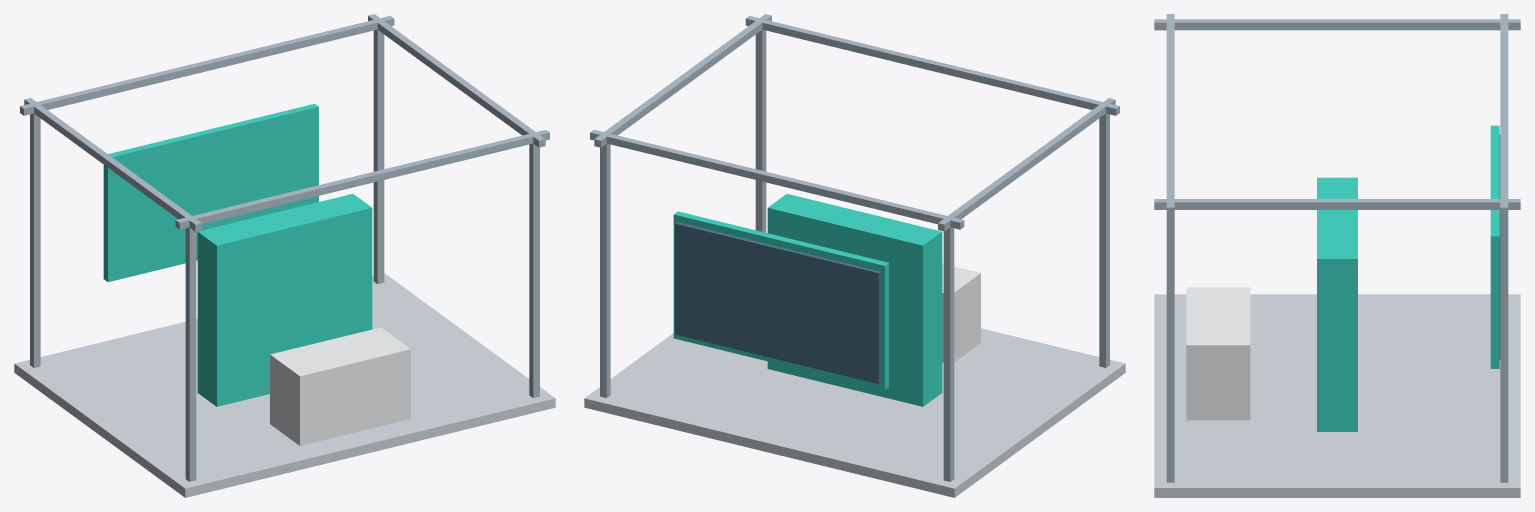
3 renders of one model, left to right at view 1: azimuth 30°, elevation 25°; view 2: azimuth 150°, elevation 25°; view 3: azimuth 270°, elevation 25°, orthographic. The views are drawn at different scales.
Visible parts, largest first — view 1: Exhibition Booth Concept; view 2: Exhibition Booth Concept; view 3: Exhibition Booth Concept.
Part boxes in pixels (<box>): Exhibition Booth Concept: <box>14,14,555,497</box>; Exhibition Booth Concept: <box>584,14,1125,497</box>; Exhibition Booth Concept: <box>1154,14,1520,497</box>.
Bounding box in the file's own units: 5 × 3.49 × 4.
